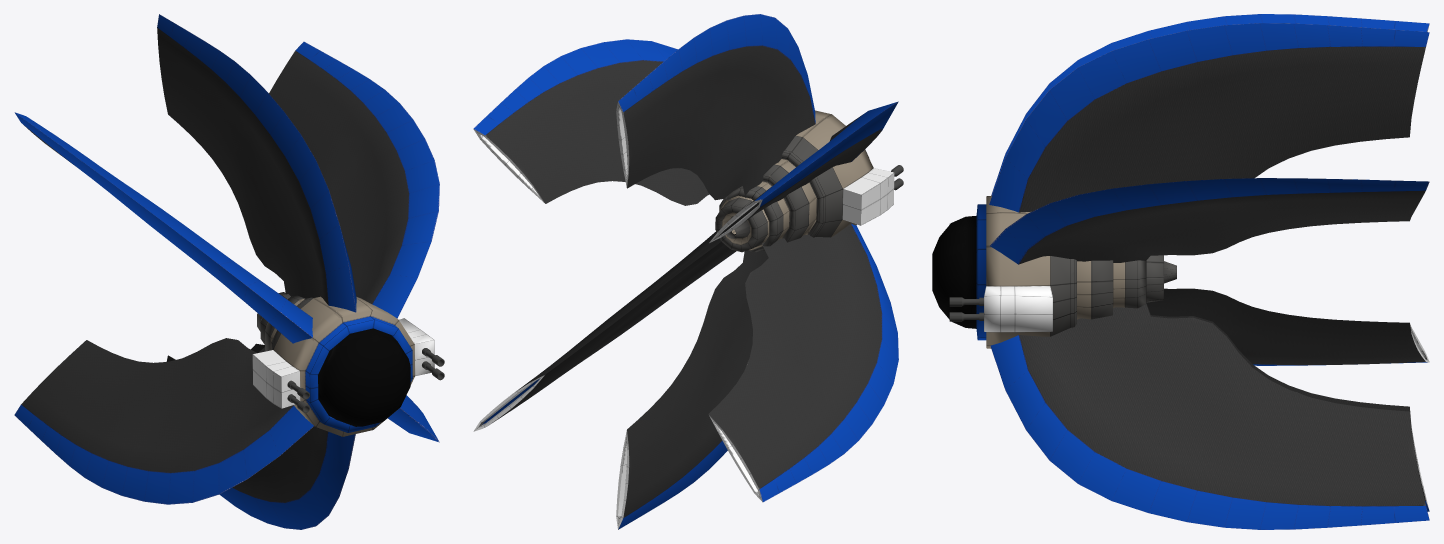
The model's file is light_ship_blue_swap.fbx.
The picture shows the model from 3 angles, left to right: view 1: azimuth 30°, elevation 25°; view 2: azimuth 150°, elevation 25°; view 3: azimuth 270°, elevation 25°; orthographic projection. The views are drawn at different scales.
Visible parts, largest first — view 1: light_combined; view 2: light_combined; view 3: light_combined.
Part boxes in pixels (<box>): light_combined: <box>14,14,444,529</box>; light_combined: <box>473,14,903,529</box>; light_combined: <box>932,14,1429,529</box>.
Bounding box in the file's own units: 47.85 × 67.67 × 61.31.
Materials: 1 (1 with a texture image).
